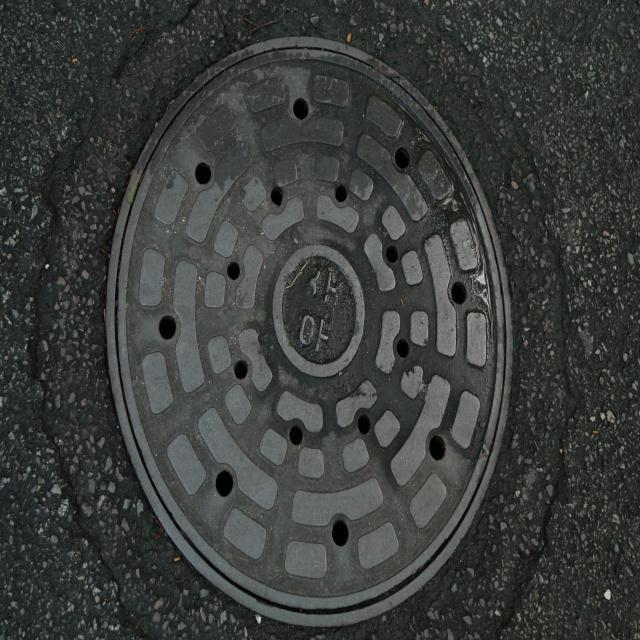manhole: (102, 36, 515, 632)
